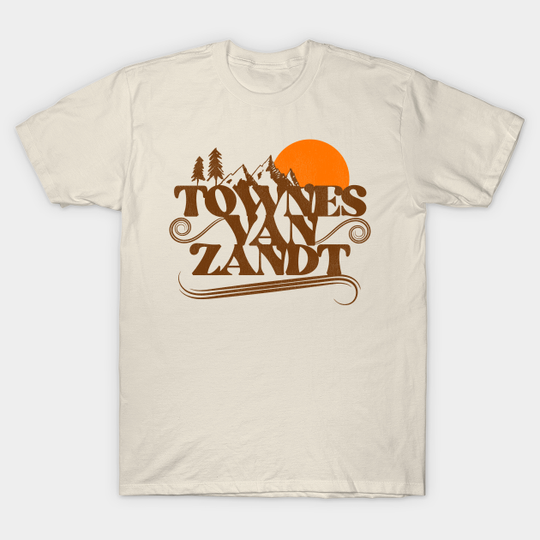design: (165, 134, 373, 307)
